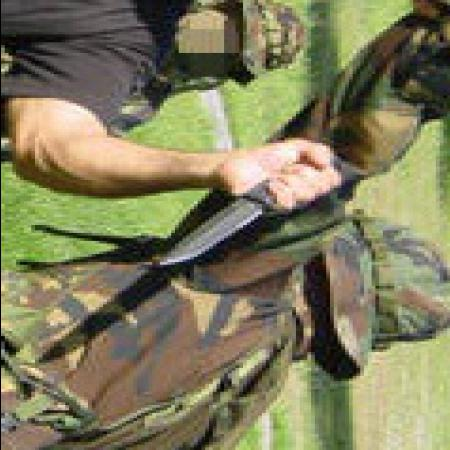long weapon: (156, 140, 356, 273)
